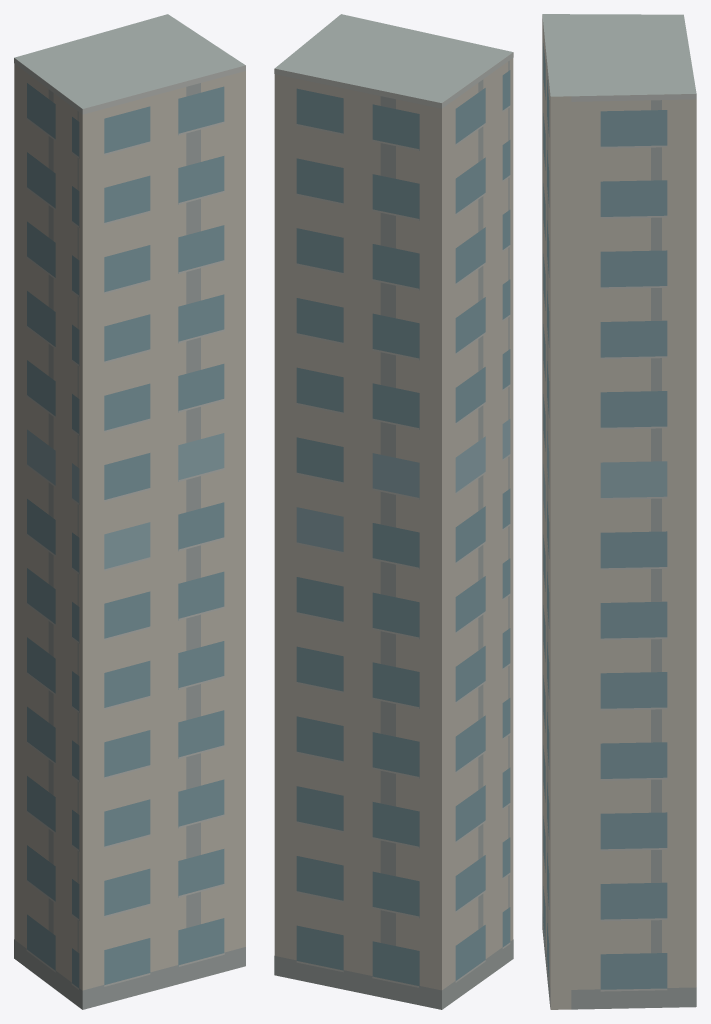
Rendered from survey-upis-32503993.glb.
3 views of the same model, side by side, from view 1: azimuth 30°, elevation 25°; view 2: azimuth 150°, elevation 25°; view 3: azimuth 270°, elevation 25° (orthographic).
Visible parts, largest first — view 1: survey-upis-32503993.tmp; view 2: survey-upis-32503993.tmp; view 3: survey-upis-32503993.tmp.
Part boxes in pixels (x1=…): survey-upis-32503993.tmp: x1=14, y1=14, x2=245, y2=1009; survey-upis-32503993.tmp: x1=274, y1=14, x2=513, y2=1009; survey-upis-32503993.tmp: x1=542, y1=14, x2=696, y2=1009.
Bounding box in the file's own units: 7.71 × 39.65 × 6.08.
